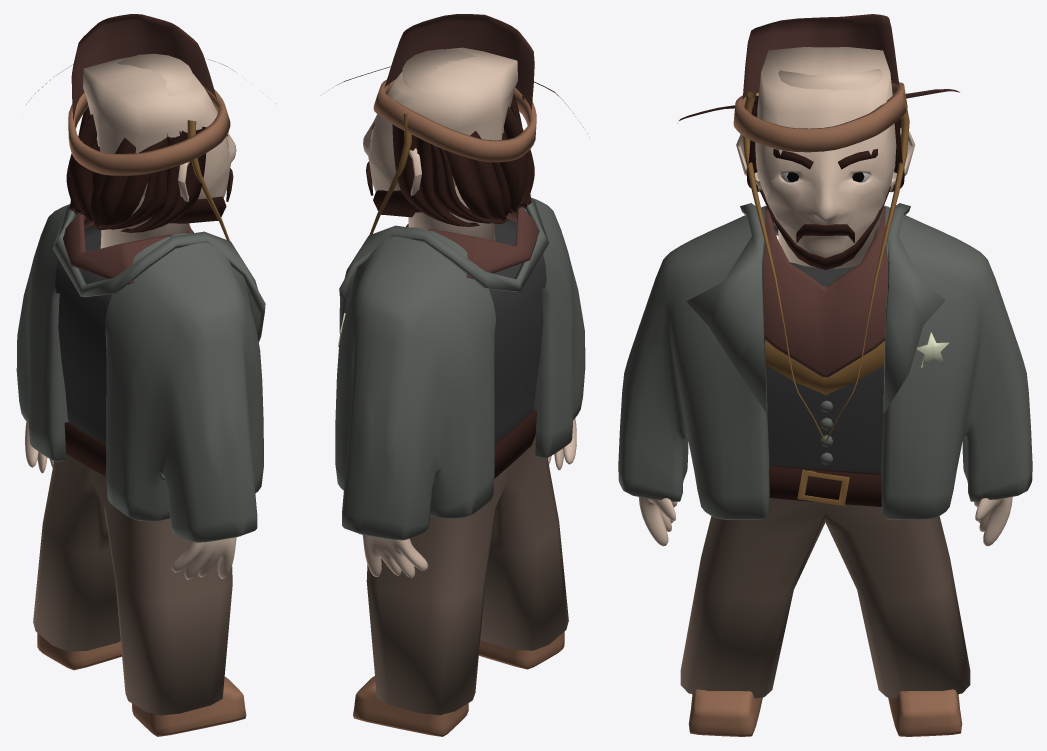
The model's file is character2.fbx.
3 renders of one model, left to right at view 1: azimuth 30°, elevation 25°; view 2: azimuth 150°, elevation 25°; view 3: azimuth 270°, elevation 25°, orthographic. The views are drawn at different scales.
Visible parts, largest first — view 1: Cube.003, Cube.005, Object_low.002, Cube, Circle, Circle.003, Plane.001, Cube.004, BezierCurve.003, Plane, Cylinder.001, Cube.006 (+6 smaller); view 2: Cube.003, Cube.005, Object_low.002, Cube, Circle, Circle.003, Cube.004, Plane.001, BezierCurve.003, Cylinder.001, Plane, BezierCurve.001 (+7 smaller); view 3: Cube.003, Cube.005, Object_low.002, Plane.001, Plane, Cube, Cube.004, Circle, Circle.003, Cube.002, BezierCurve, Cube.006 (+7 smaller).
Part boxes in pixels (box(x1,y1,x2,y2)): Cube.003: box(16, 204, 263, 542); Cube.005: box(33, 454, 232, 715); Object_low.002: box(83, 57, 236, 199); Cube: box(55, 224, 111, 443); Circle: box(26, 14, 275, 120); Circle.003: box(68, 86, 230, 175); Plane.001: box(52, 205, 265, 342); Cube.004: box(37, 633, 246, 736); BezierCurve.003: box(66, 114, 173, 225); Plane: box(63, 213, 193, 284); Cylinder.001: box(100, 53, 192, 248); Cube.006: box(25, 421, 240, 579); Cube.003: box(335, 197, 585, 540); Cube.005: box(366, 435, 568, 715); Object_low.002: box(363, 47, 517, 191); Cube: box(489, 218, 546, 444); Circle: box(328, 14, 587, 133); Circle.003: box(373, 79, 536, 162); Cube.004: box(353, 632, 564, 736); Plane.001: box(339, 199, 548, 332); BezierCurve.003: box(444, 106, 534, 219); Cylinder.001: box(402, 49, 495, 241); Plane: box(406, 207, 538, 279); BezierCurve.001: box(392, 124, 479, 226); Cube.003: box(618, 205, 1032, 519); Cube.005: box(680, 498, 970, 698); Object_low.002: box(755, 47, 896, 257); Plane.001: box(686, 203, 945, 413); Plane: box(763, 206, 887, 377); Cube: box(765, 262, 884, 473); Cube.004: box(688, 689, 962, 736); Circle: box(677, 14, 959, 123); Circle.003: box(733, 82, 907, 152); Cube.002: box(769, 465, 881, 506); BezierCurve: box(743, 91, 909, 442); Cube.006: box(638, 497, 1012, 546).
Bounding box in the file's own units: 67.27 × 178 × 96.12.
